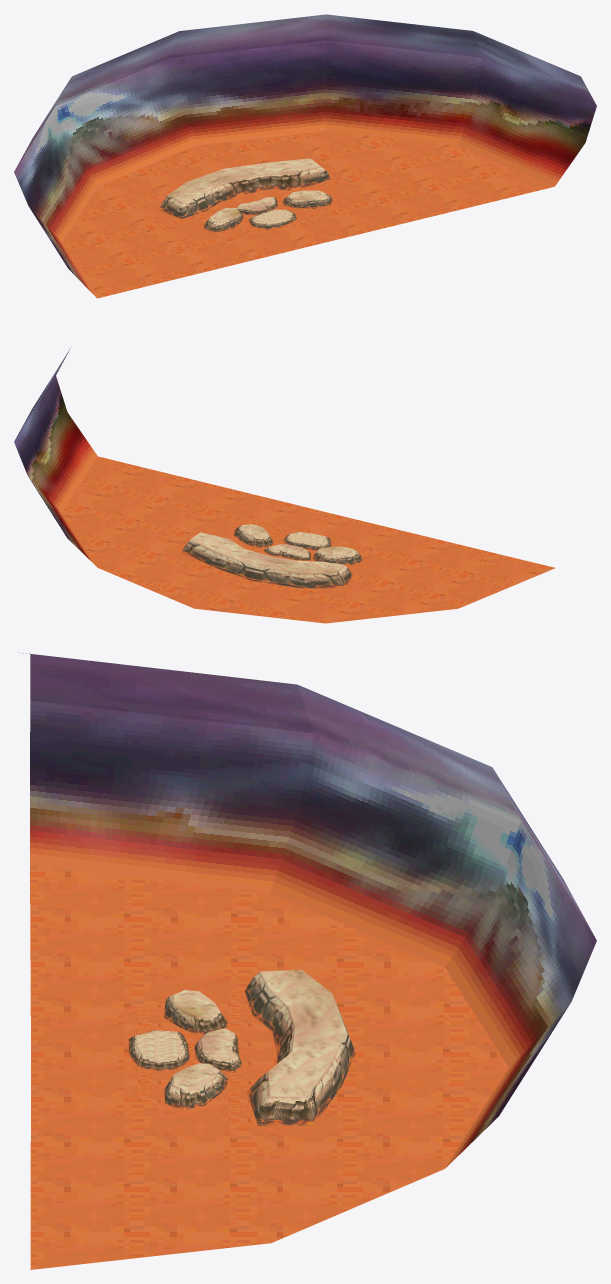
Rendered from AlienBoss.glb.
The picture shows the model from 3 angles, top to bottom: view 1: azimuth 30°, elevation 25°; view 2: azimuth 150°, elevation 25°; view 3: azimuth 270°, elevation 25°; orthographic projection. The views are drawn at different scales.
Visible parts, largest first — view 1: AlienBoss_33, AlienBoss_Alpha_22, AlienBoss_Alpha_21, AlienBoss_Alpha_15, AlienBoss_Alpha_16, AlienBoss_Alpha_23, AlienBoss_Alpha_20, AlienBoss_Alpha_14, AlienBoss_Alpha_17, AlienBoss_Alpha_9, AlienBoss_Alpha_10, AlienBoss_Alpha_19 (+11 smaller); view 2: AlienBoss_33, AlienBoss_Alpha_23, AlienBoss_32, AlienBoss_Alpha_17, AlienBoss_30, AlienBoss_29, AlienBoss_27, AlienBoss_26, AlienBoss_Alpha_22; view 3: AlienBoss_33, AlienBoss_Alpha_18, AlienBoss_Alpha_12, AlienBoss_Alpha_19, AlienBoss_Alpha_13, AlienBoss_Alpha_6, AlienBoss_Alpha_20, AlienBoss_32, AlienBoss_Alpha_7, AlienBoss_Alpha_14, AlienBoss_Alpha_21, AlienBoss_31 (+5 smaller).
Boxes of the visible parts, left/top/right/bottom form: AlienBoss_33: left=62, top=131, right=554, bottom=298; AlienBoss_Alpha_22: left=326, top=79, right=475, bottom=145; AlienBoss_Alpha_21: left=178, top=79, right=326, bottom=145; AlienBoss_Alpha_15: left=170, top=40, right=326, bottom=96; AlienBoss_Alpha_16: left=326, top=40, right=482, bottom=96; AlienBoss_Alpha_23: left=458, top=97, right=584, bottom=186; AlienBoss_Alpha_20: left=68, top=97, right=194, bottom=186; AlienBoss_Alpha_14: left=56, top=58, right=177, bottom=142; AlienBoss_Alpha_17: left=476, top=58, right=596, bottom=142; AlienBoss_Alpha_9: left=170, top=14, right=326, bottom=57; AlienBoss_Alpha_10: left=326, top=14, right=482, bottom=57; AlienBoss_Alpha_19: left=28, top=143, right=98, bottom=242; AlienBoss_33: left=62, top=456, right=555, bottom=623; AlienBoss_Alpha_23: left=27, top=412, right=97, bottom=511; AlienBoss_32: left=190, top=524, right=354, bottom=573; AlienBoss_Alpha_17: left=14, top=376, right=67, bottom=474; AlienBoss_30: left=181, top=539, right=362, bottom=588; AlienBoss_29: left=217, top=532, right=353, bottom=588; AlienBoss_27: left=185, top=532, right=359, bottom=579; AlienBoss_26: left=219, top=528, right=351, bottom=579; AlienBoss_Alpha_22: left=28, top=476, right=97, bottom=567; AlienBoss_33: left=30, top=865, right=508, bottom=1269; AlienBoss_Alpha_18: left=30, top=773, right=300, bottom=892; AlienBoss_Alpha_12: left=30, top=700, right=313, bottom=803; AlienBoss_Alpha_19: left=270, top=804, right=498, bottom=966; AlienBoss_Alpha_13: left=301, top=733, right=520, bottom=887; AlienBoss_Alpha_6: left=30, top=654, right=313, bottom=732; AlienBoss_Alpha_20: left=445, top=888, right=570, bottom=1067; AlienBoss_32: left=136, top=969, right=345, bottom=1096; AlienBoss_Alpha_7: left=297, top=685, right=520, bottom=820; AlienBoss_Alpha_14: left=499, top=821, right=596, bottom=1001; AlienBoss_Alpha_21: left=446, top=1003, right=570, bottom=1167; AlienBoss_31: left=137, top=1017, right=313, bottom=1126.
Size of the model in its own units: 2008 by 533 by 1034.
Materials: 35 (35 with a texture image).
